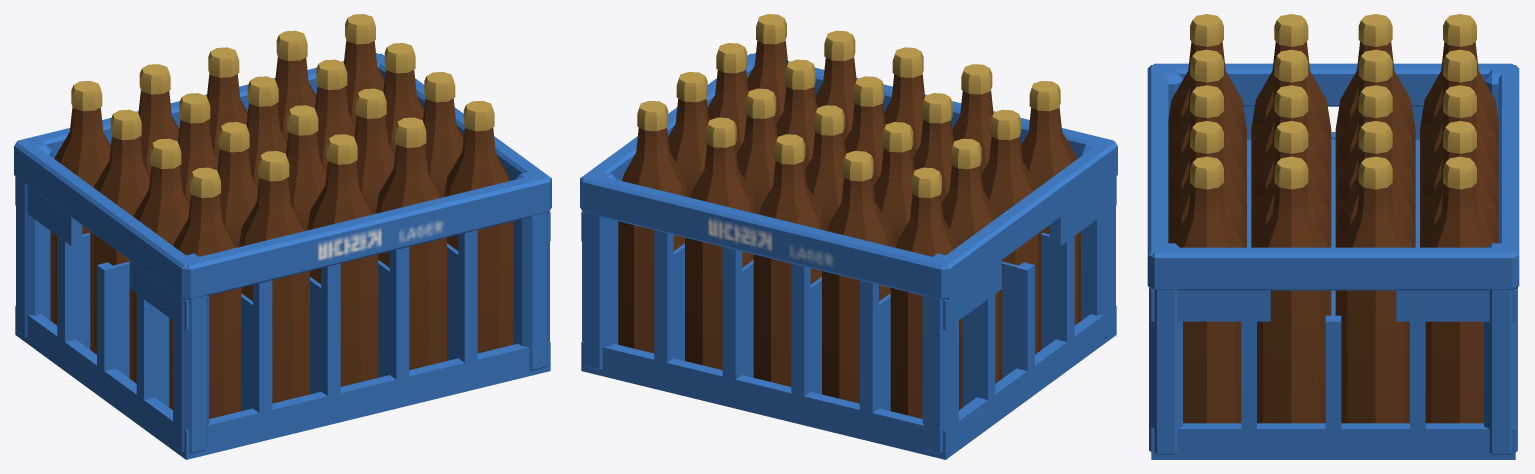
The model's file is SC_Ter_Crate_Beer_Blue.gltf.
3 views of the same model, side by side, from view 1: azimuth 30°, elevation 25°; view 2: azimuth 150°, elevation 25°; view 3: azimuth 270°, elevation 25° (orthographic). The views are drawn at different scales.
Visible parts, largest first — view 1: SC_Ter_Crate_Beer_Blue; view 2: SC_Ter_Crate_Beer_Blue; view 3: SC_Ter_Crate_Beer_Blue.
Boxes of the visible parts, bbox=[...] form: SC_Ter_Crate_Beer_Blue: bbox=[14, 14, 551, 459]; SC_Ter_Crate_Beer_Blue: bbox=[580, 14, 1117, 459]; SC_Ter_Crate_Beer_Blue: bbox=[1147, 14, 1519, 459].
Size of the model in its own units: 0.4 by 0.265 by 0.329.
2 materials, 2 textured.
